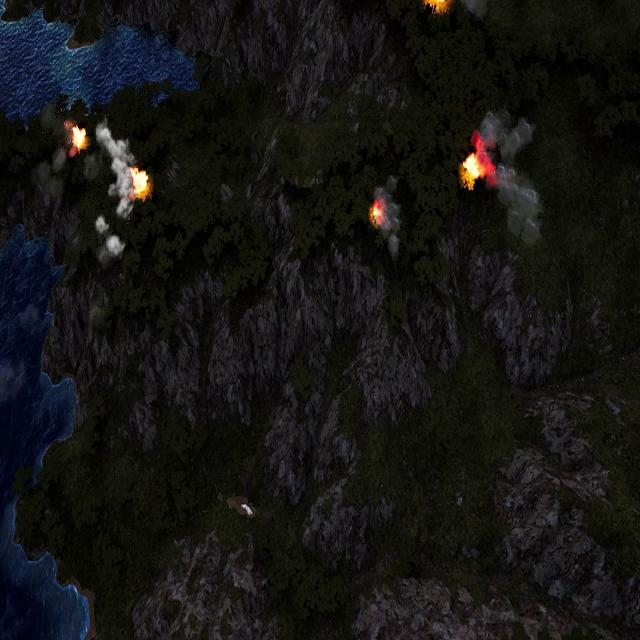fire: (462, 145, 495, 188), (66, 122, 87, 155), (130, 168, 151, 200), (423, 0, 452, 12), (368, 201, 382, 225)
smoke: (479, 109, 542, 248), (92, 117, 132, 267), (36, 109, 81, 205), (372, 177, 403, 261)
